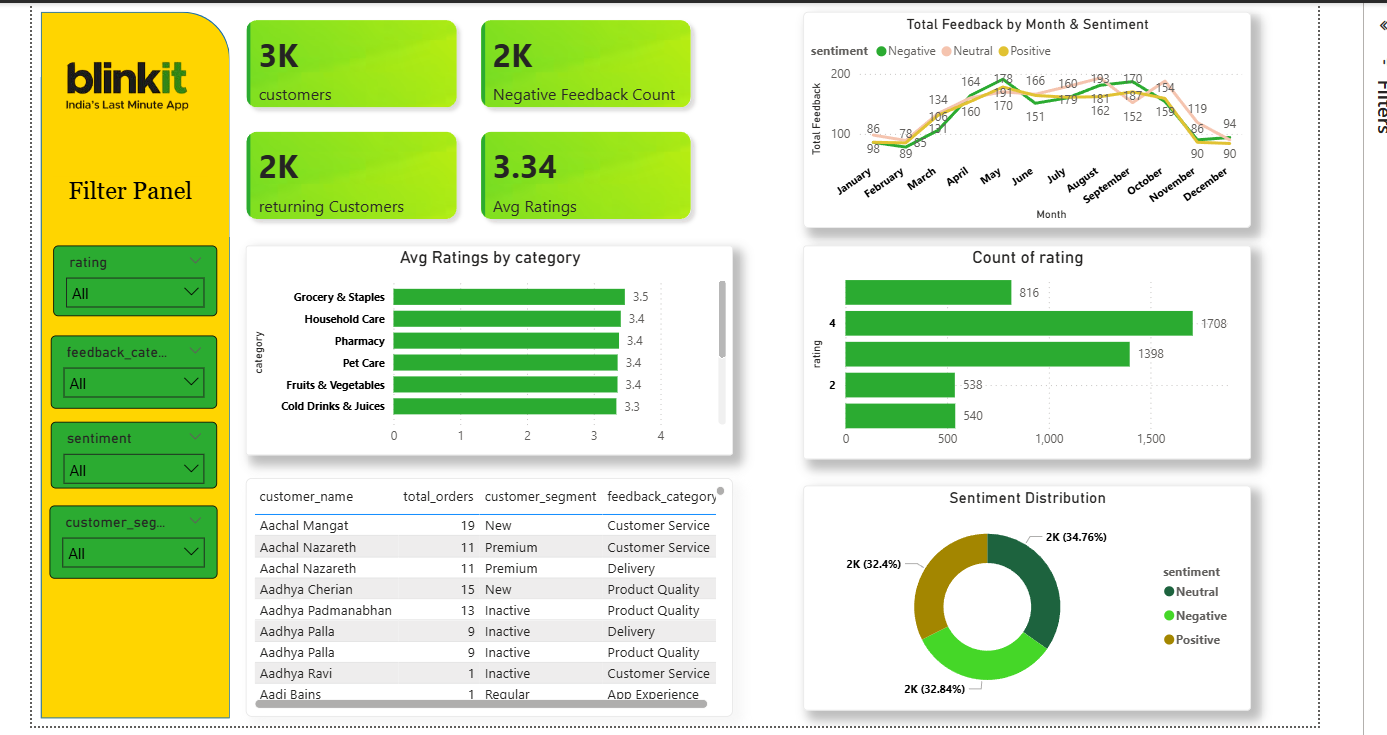

This screenshot's page, from the dashboard's own definition file:
{"tool":"powerbi","page":{"name":"Page 3","canvas":[1280,720],"ordinal":2},"visuals":[{"type":"shape","box":[8.3,8.3,188.3,703.3],"z":0},{"type":"image","box":[0,0,188.9,165.6],"z":1000},{"type":"textbox","title":"Filter Panel","box":[16.7,173.3,163.3,24.4],"z":2000},{"type":"cardVisual","fields":{"Data":["blinkit_customers.customers","blinkit_customer_feedback.Negative Feedback Count","blinkit_customers.returning Customers","blinkit_customer_feedback.Avg Ratings"]},"box":[196.5,0,477.7,232.6],"z":3000},{"type":"lineChart","title":"Total Feedback by Month & Sentiment ","fields":{"Category":["blinkit_customer_feedback.feedback_date.Variation.Date Hierarchy.Month"],"Y":["blinkit_customer_feedback.Total Feedback"],"Series":["blinkit_customer_feedback.sentiment"]},"box":[767.5,8.7,445.3,215.2],"z":4000},{"type":"barChart","fields":{"Category":["blinkit_products.category"],"Y":["blinkit_customer_feedback.Avg Ratings"]},"box":[212.7,241.3,485.1,209],"z":5000},{"type":"barChart","title":"Count of rating ","fields":{"Category":["blinkit_customer_feedback.rating"],"Y":["CountNonNull(blinkit_customer_feedback.rating)"]},"box":[767.5,241.3,445.3,212.7],"z":6000},{"type":"tableEx","fields":{"Values":["blinkit_customers.customer_name","blinkit_customers.total_orders","blinkit_customers.customer_segment","blinkit_customer_feedback.feedback_category"]},"box":[212.7,472.7,485.1,237.6],"z":7000},{"type":"slicer","fields":{"Values":["blinkit_customers.customer_segment"]},"box":[17.9,499.5,166.9,72.7],"z":8000},{"type":"slicer","fields":{"Values":["blinkit_customer_feedback.rating"]},"box":[21.5,240.8,163.3,70.3],"z":9000},{"type":"slicer","fields":{"Values":["blinkit_customer_feedback.sentiment"]},"box":[19.1,417.2,165.7,66.8],"z":10000},{"type":"slicer","fields":{"Values":["blinkit_customer_feedback.feedback_category"]},"box":[19.1,331.4,165.7,72.7],"z":11000},{"type":"donutChart","title":"Sentiment Distribution","fields":{"Category":["blinkit_customer_feedback.sentiment"],"Y":["blinkit_customer_feedback.Total Feedback"]},"box":[767.5,480.2,445.3,223.9],"z":12000}]}

Visuals, with their boxes on the page's 1280x720 design canvas (x1, y1, x2, y2). These are canvas units, not pixel positions in the 1387x735 screenshot, which may show the page scaled, cropped or inside an application window:
shape: region(8, 8, 197, 712)
image: region(0, 0, 189, 166)
"Filter Panel" textbox: region(17, 173, 180, 198)
cardVisual - blinkit_customers.customers x blinkit_customer_feedback.Negative Feedback Count: region(196, 0, 674, 233)
"Total Feedback by Month & Sentiment " lineChart: region(768, 9, 1213, 224)
barChart - blinkit_products.category x blinkit_customer_feedback.Avg Ratings: region(213, 241, 698, 450)
"Count of rating " barChart: region(768, 241, 1213, 454)
tableEx - blinkit_customers.customer_name x blinkit_customers.total_orders: region(213, 473, 698, 710)
slicer - blinkit_customers.customer_segment: region(18, 500, 185, 572)
slicer - blinkit_customer_feedback.rating: region(22, 241, 185, 311)
slicer - blinkit_customer_feedback.sentiment: region(19, 417, 185, 484)
slicer - blinkit_customer_feedback.feedback_category: region(19, 331, 185, 404)
"Sentiment Distribution" donutChart: region(768, 480, 1213, 704)
